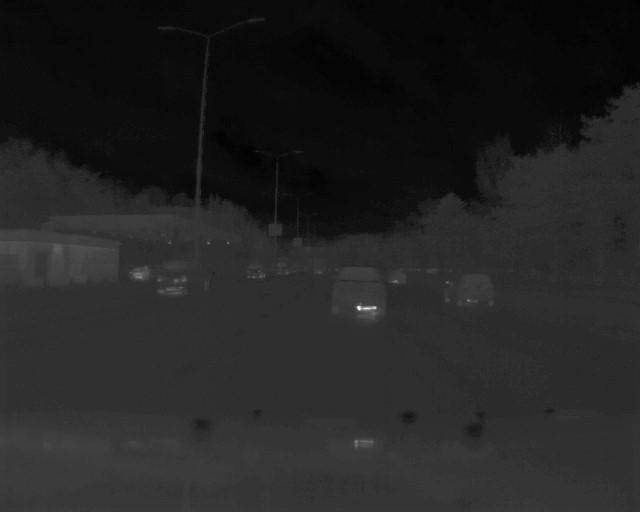car: (329, 264, 390, 323), (157, 256, 216, 297), (444, 269, 498, 312)
